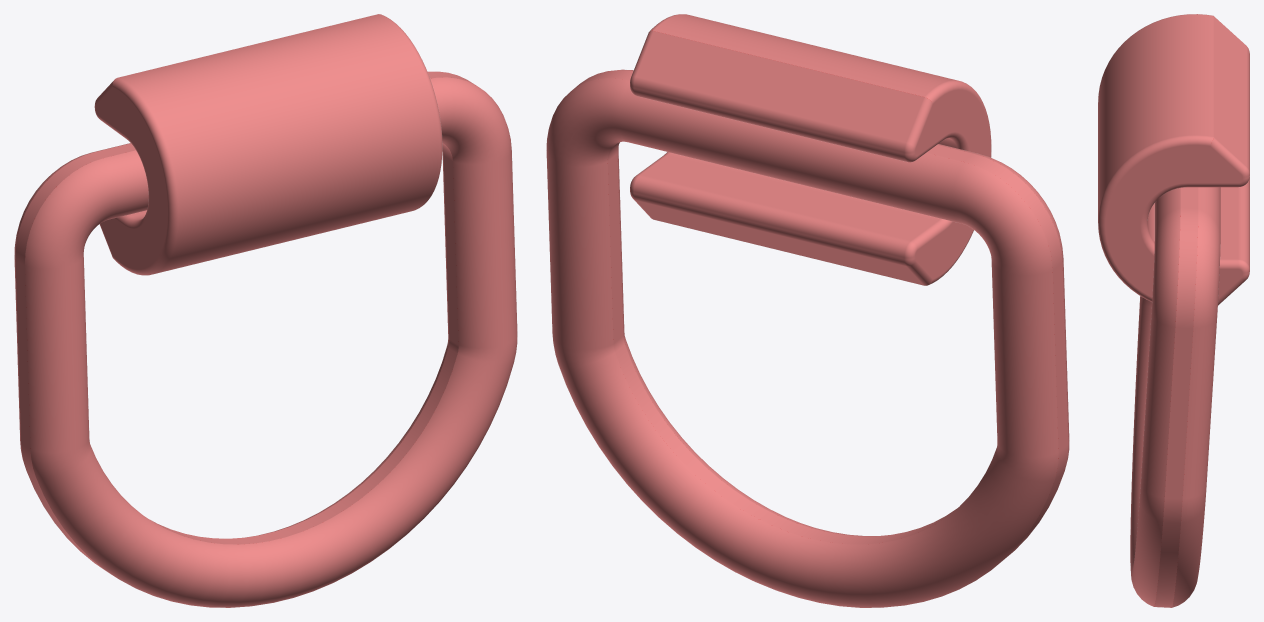
File: dRing.glb
The picture shows the model from 3 angles, left to right: view 1: azimuth 30°, elevation 25°; view 2: azimuth 150°, elevation 25°; view 3: azimuth 270°, elevation 25°; orthographic projection. The views are drawn at different scales.
Visible parts, largest first — view 1: HDR916-1-solid1 - Part, HDR916-1-solid1 - Part_clonedChild, HB12-1-solid1 - Part, HB12-1-solid1 - Part_clonedChild; view 2: HDR916-1-solid1 - Part, HDR916-1-solid1 - Part_clonedChild, HB12-1-solid1 - Part, HB12-1-solid1 - Part_clonedChild; view 3: HB12-1-solid1 - Part, HB12-1-solid1 - Part_clonedChild, HDR916-1-solid1 - Part, HDR916-1-solid1 - Part_clonedChild.
Boxes of the visible parts, bbox=[...] form: HDR916-1-solid1 - Part: bbox=[14, 71, 517, 607]; HDR916-1-solid1 - Part_clonedChild: bbox=[14, 71, 517, 607]; HB12-1-solid1 - Part: bbox=[94, 14, 442, 275]; HB12-1-solid1 - Part_clonedChild: bbox=[95, 14, 442, 275]; HDR916-1-solid1 - Part: bbox=[546, 69, 1069, 607]; HDR916-1-solid1 - Part_clonedChild: bbox=[546, 70, 1069, 607]; HB12-1-solid1 - Part: bbox=[630, 14, 991, 285]; HB12-1-solid1 - Part_clonedChild: bbox=[630, 14, 991, 285]; HB12-1-solid1 - Part: bbox=[1098, 14, 1249, 305]; HB12-1-solid1 - Part_clonedChild: bbox=[1098, 14, 1249, 304]; HDR916-1-solid1 - Part: bbox=[1130, 187, 1220, 607]; HDR916-1-solid1 - Part_clonedChild: bbox=[1130, 187, 1220, 607].
Size of the model in its own units: 0.1157 by 0.1215 by 0.033.
